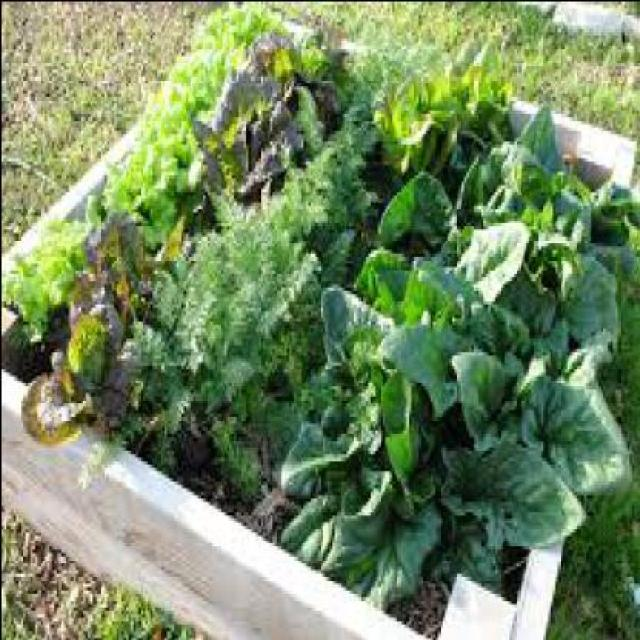BIODEGRADABLE: (390, 276, 628, 586), (273, 283, 445, 606), (456, 98, 636, 354), (117, 228, 257, 490), (14, 262, 137, 440), (198, 191, 322, 337), (189, 55, 317, 190), (350, 170, 458, 316), (101, 110, 199, 238), (264, 137, 371, 246), (249, 7, 345, 122), (2, 203, 86, 331), (75, 208, 179, 306), (364, 75, 456, 177), (143, 21, 223, 133), (426, 41, 506, 153), (198, 4, 278, 54), (320, 78, 374, 150)
